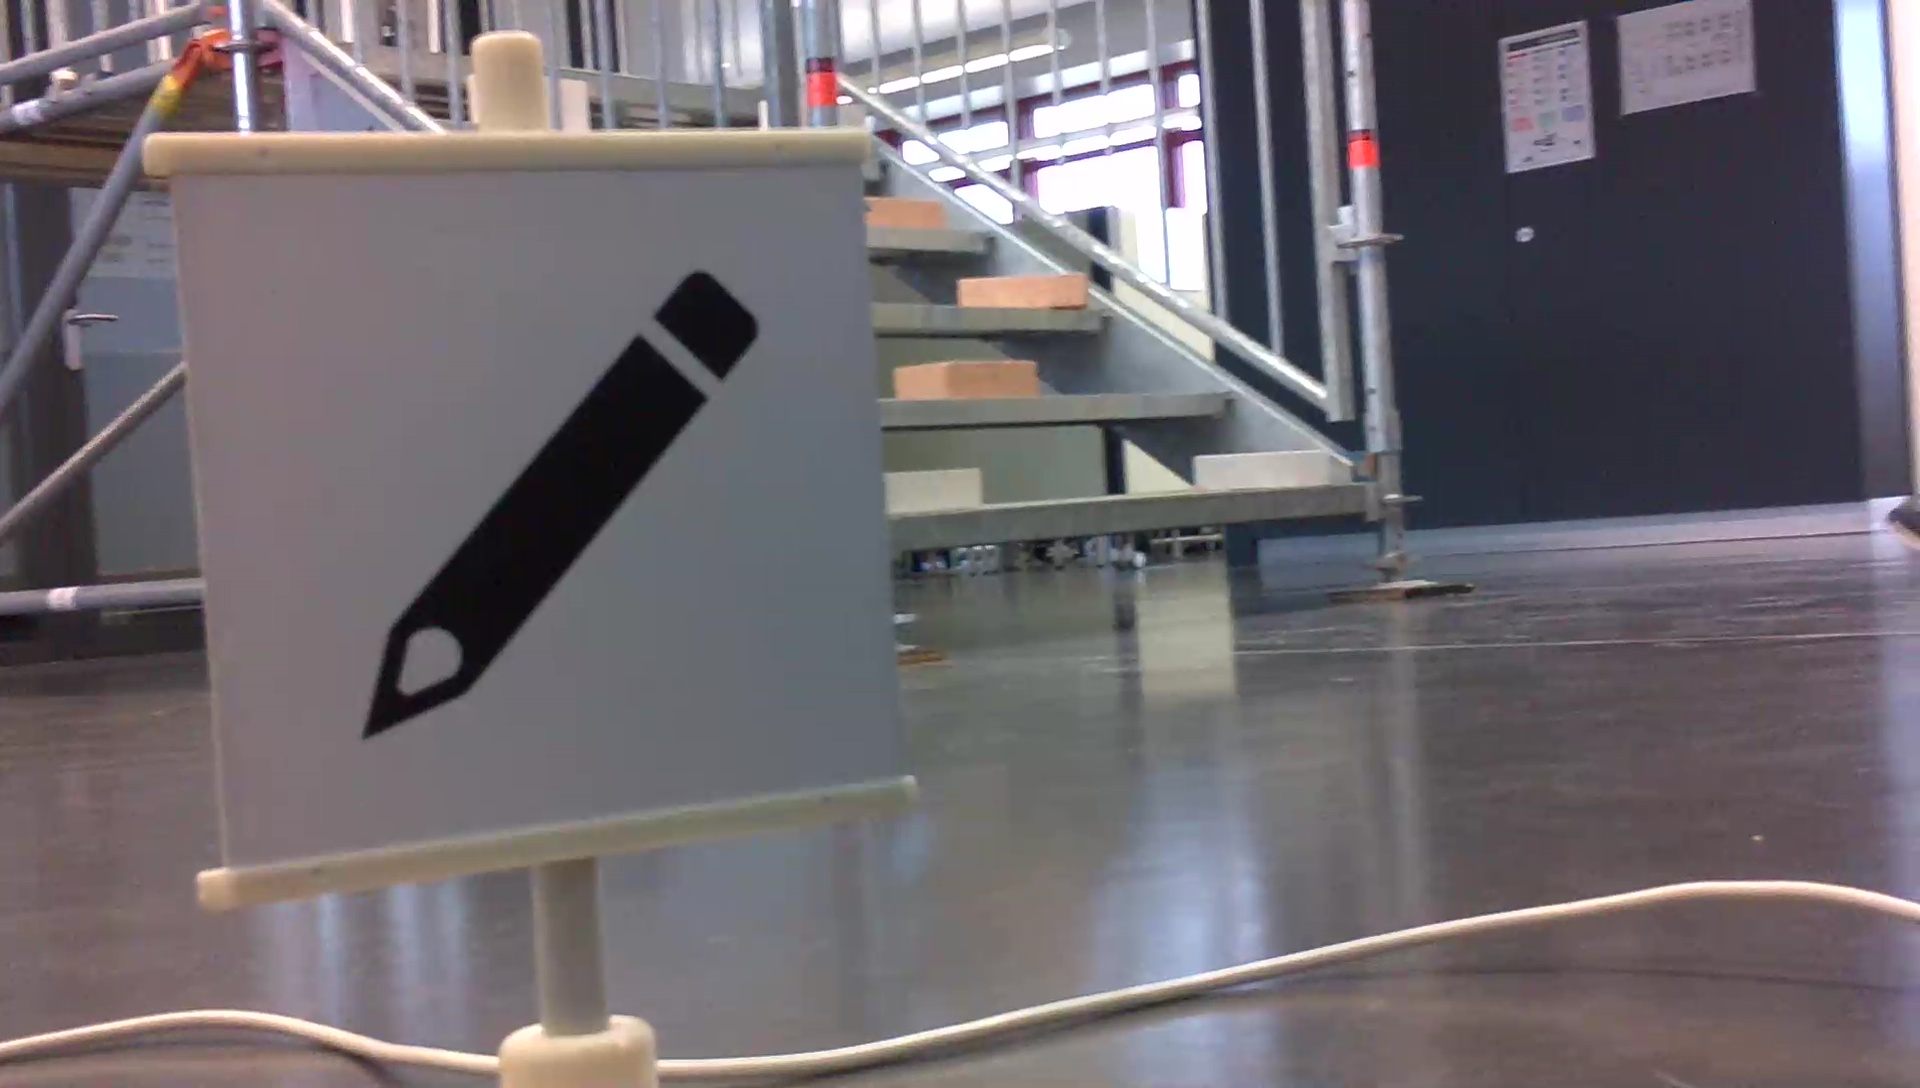brick: (893, 361, 1035, 396), (1197, 450, 1327, 487), (885, 466, 978, 506), (957, 276, 1085, 305), (866, 198, 938, 228)
edge: (890, 489, 1362, 550), (881, 388, 1237, 425)
pencil: (344, 255, 769, 748)
